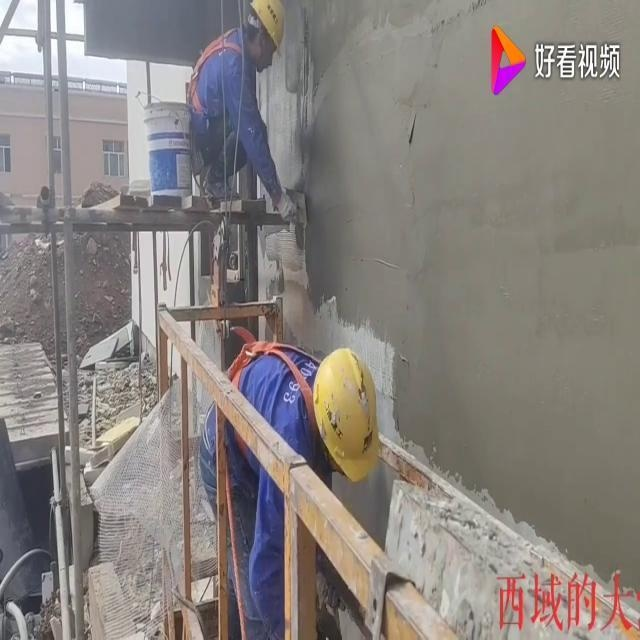Arnes_seguridad: (219, 318, 333, 466), (185, 18, 256, 119)
